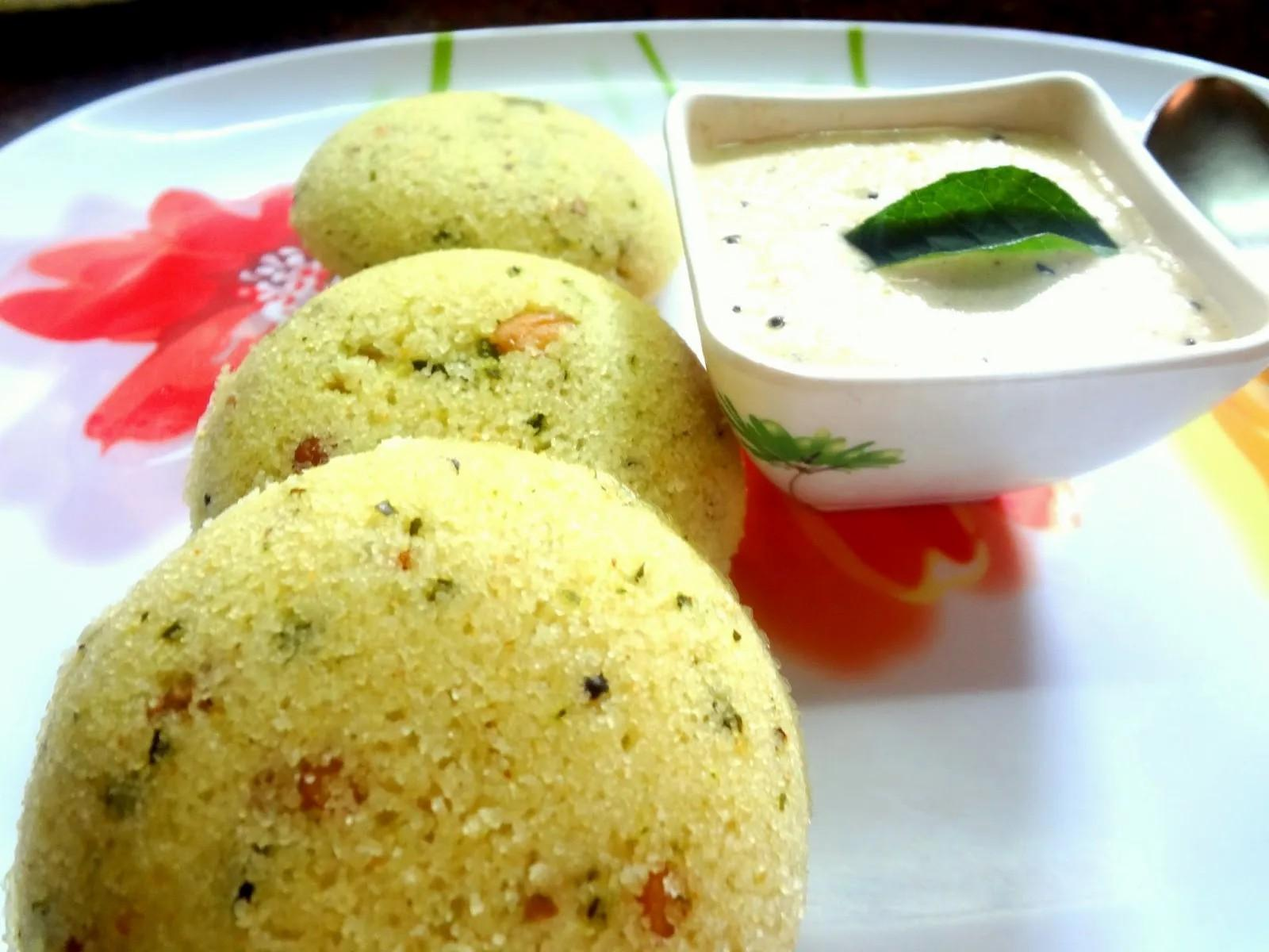CoconutChutney: (694, 117, 1246, 376)
Idli: (21, 429, 805, 952), (183, 252, 747, 578), (284, 82, 677, 303)
